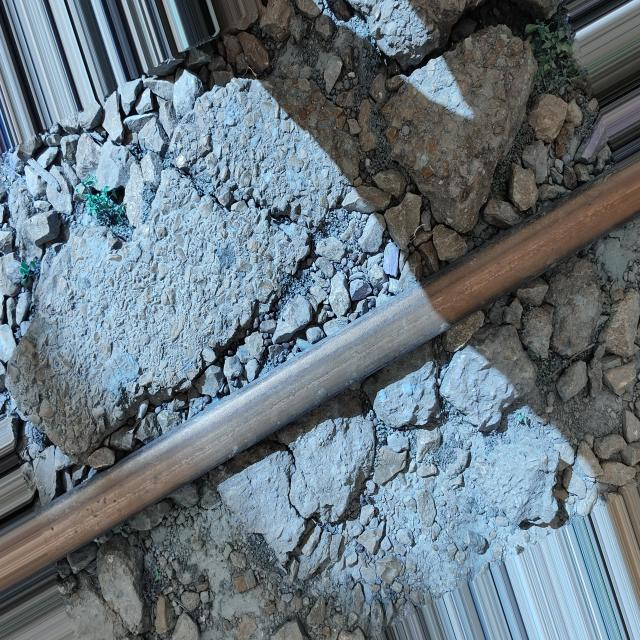non-defective: (2, 152, 638, 608)
